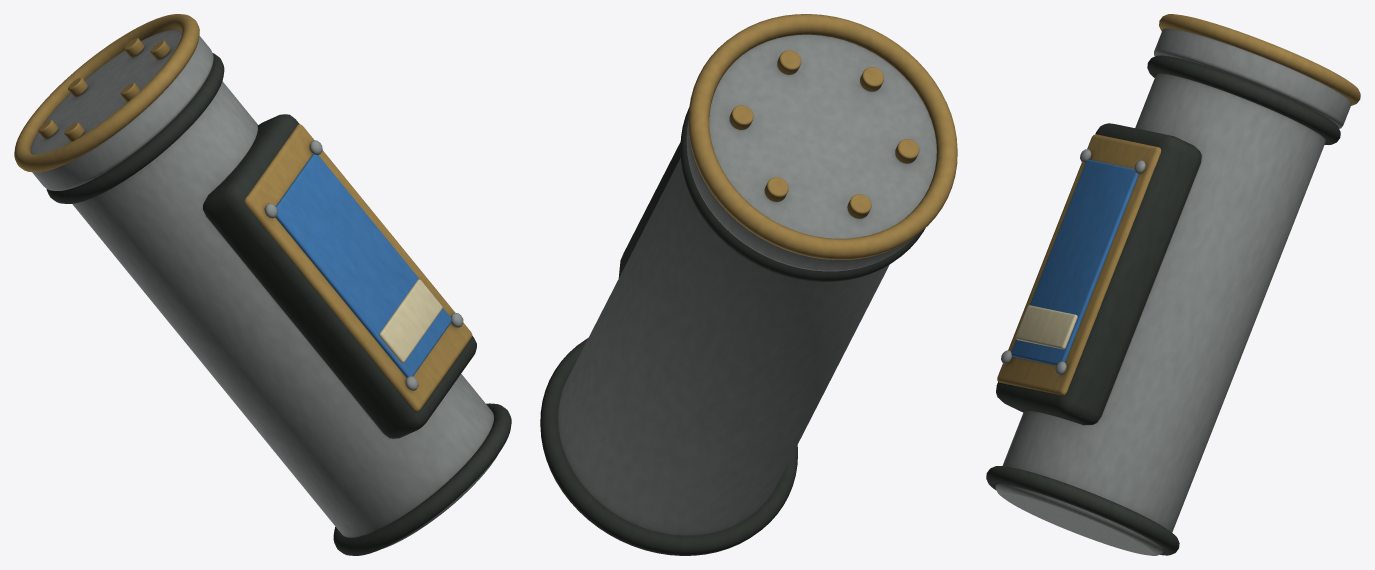
3 renders of one model, left to right at view 1: azimuth 30°, elevation 25°; view 2: azimuth 150°, elevation 25°; view 3: azimuth 270°, elevation 25°, orthographic. The views are drawn at different scales.
Visible parts, largest first — view 1: Closed sample vessel; view 2: Closed sample vessel; view 3: Closed sample vessel.
Part boxes in pixels (x1,y1,x2,y2): Closed sample vessel: [14, 14, 511, 555]; Closed sample vessel: [540, 14, 957, 555]; Closed sample vessel: [986, 14, 1360, 555].
Size of the model in its own units: 1.03 by 1.26 by 0.9031.
1 material, 1 textured.
